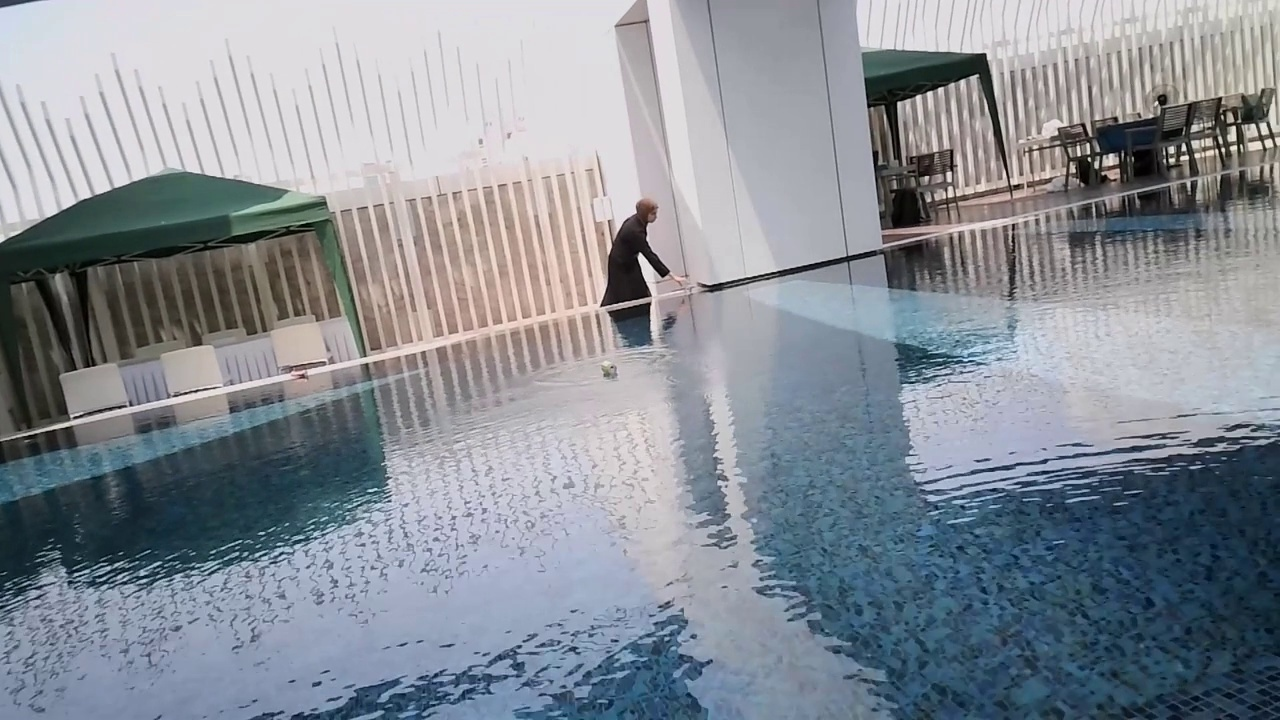debris: (597, 358, 620, 379), (285, 367, 313, 383)
